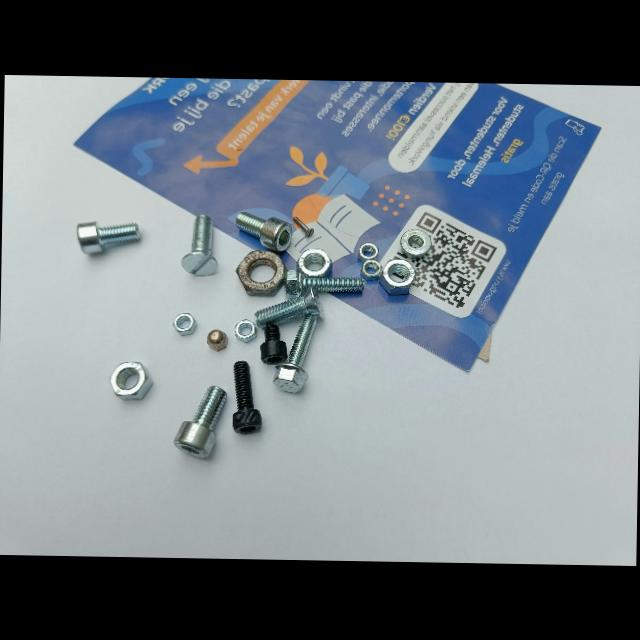bolt: (174, 386, 226, 458), (273, 313, 316, 392), (254, 285, 324, 329), (284, 267, 364, 298), (235, 211, 292, 252), (181, 214, 217, 275), (232, 360, 261, 433), (76, 221, 140, 254), (260, 323, 287, 364), (292, 215, 313, 237)
nuts: (236, 250, 287, 296), (110, 362, 152, 400), (378, 259, 415, 295), (297, 249, 332, 278), (400, 229, 431, 259), (357, 257, 382, 281), (172, 312, 197, 335), (234, 319, 257, 342), (206, 329, 227, 351), (357, 243, 378, 262)
